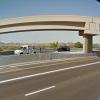Bridge: (2, 10, 96, 45)
